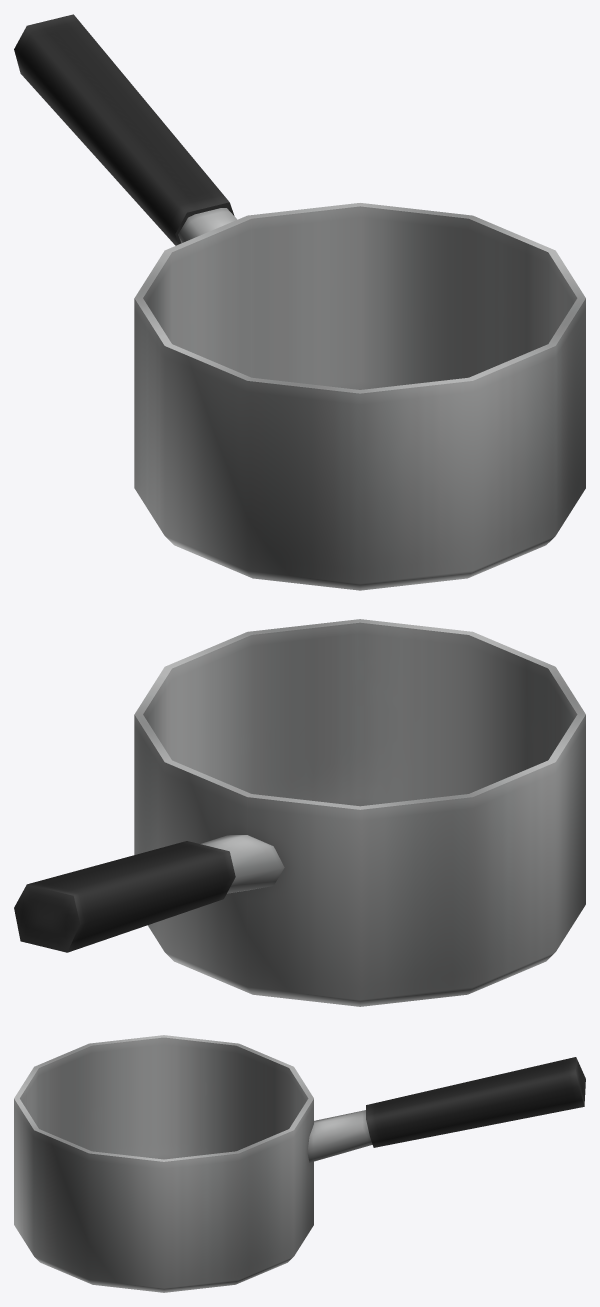
The model's file is jsf_Pot_02a.fbx.
3 views of the same model, one above another, from view 1: azimuth 30°, elevation 25°; view 2: azimuth 150°, elevation 25°; view 3: azimuth 270°, elevation 25° (orthographic). The views are drawn at different scales.
Visible parts, largest first — view 1: jsf_Pot_02a; view 2: jsf_Pot_02a; view 3: jsf_Pot_02a.
Part boxes in pixels (x1,y1,x2,y2): jsf_Pot_02a: (14,14,585,590); jsf_Pot_02a: (14,619,585,1006); jsf_Pot_02a: (14,1035,585,1292).
Size of the model in its own units: 18.61 by 11.5 by 35.47.
